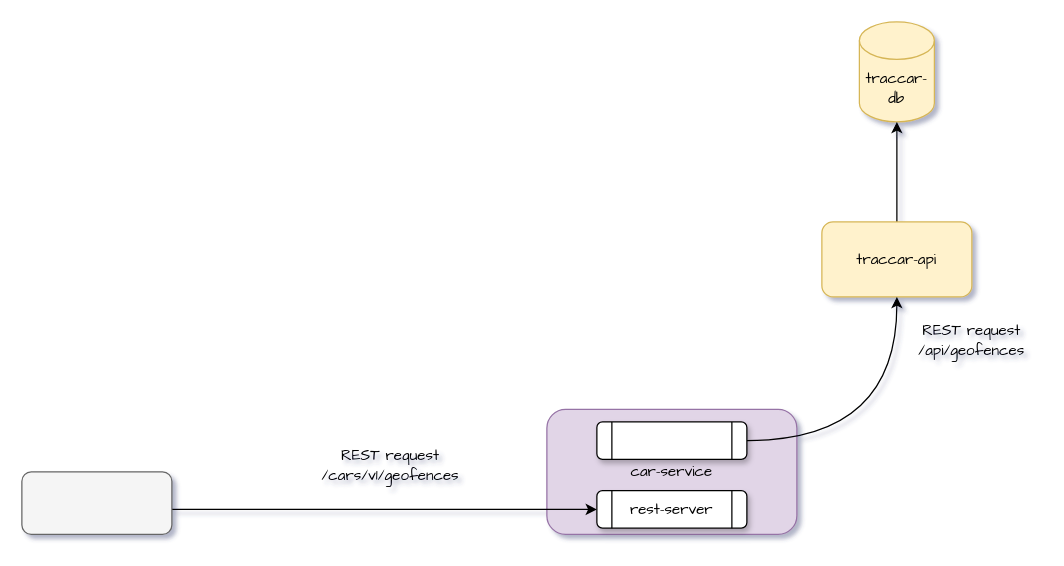
Some shapes in this 1064 by 566 pixel diagram are drawn without their labels. Each missing label, with the centre of its shape:
"admin MFE" goes at point 96,502.
"rest-client" goes at point 672,442.
